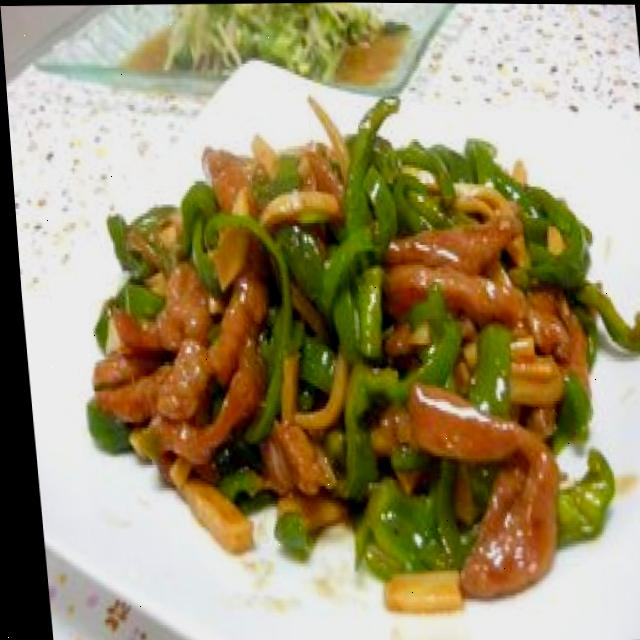牛肉菜式: (33, 66, 640, 640)
